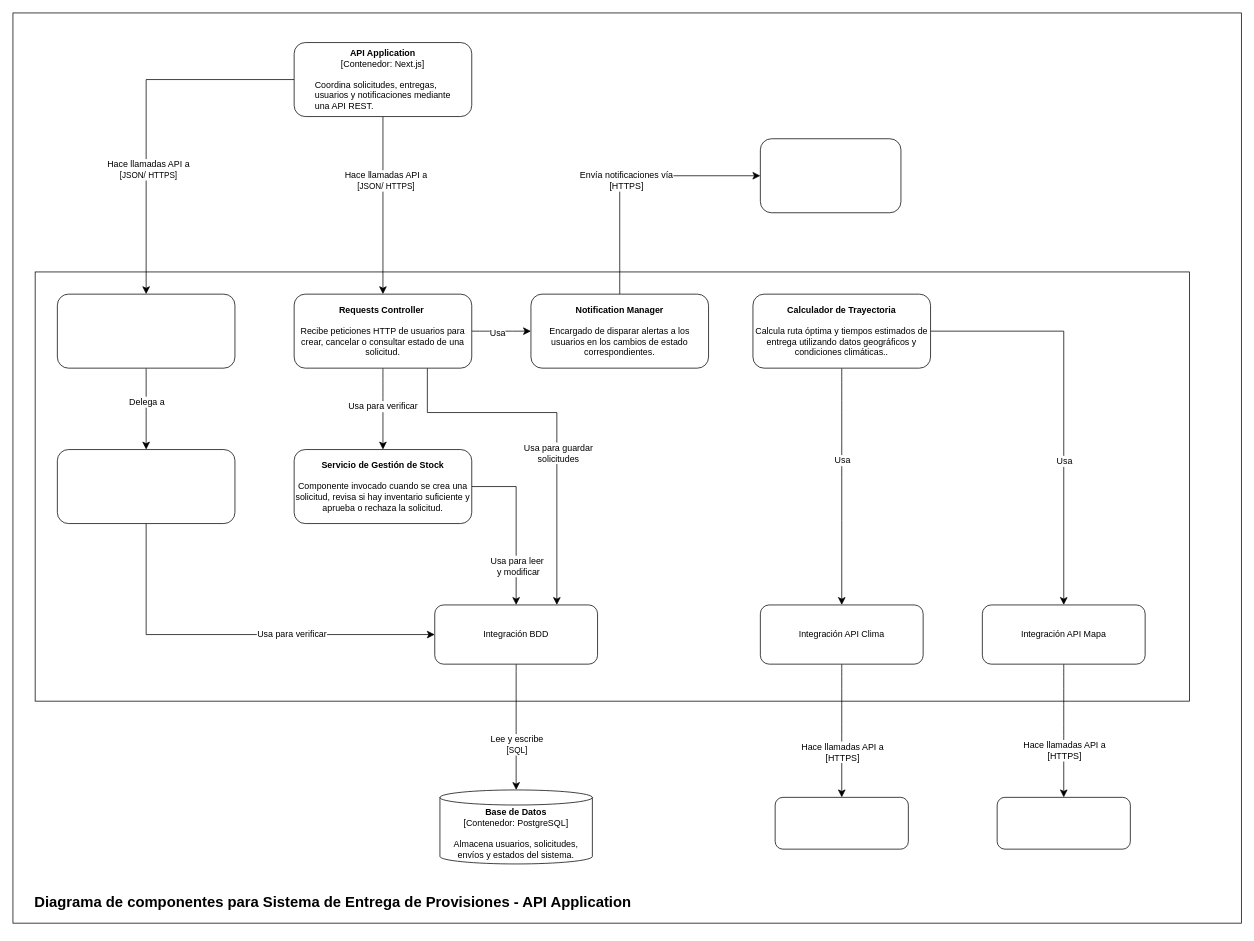
Image size: 1254x941. Some labels were removed from this diagram. Here are the shapes that lost their labels. From the top down, the centre of each, then its label:
[830,175]: Sistema de notificaciones [Sistema Externo]
[146,330]: Sign In Controller Encargado de inicio de sesión y registro de cuentas.
[146,486]: Security/Auth Controller Encargado de ivalidación de contraseñas y permisos.
[841,823]: API Clima [Sistema Externo]
[1063,823]: API Maps [Sistema Externo]
